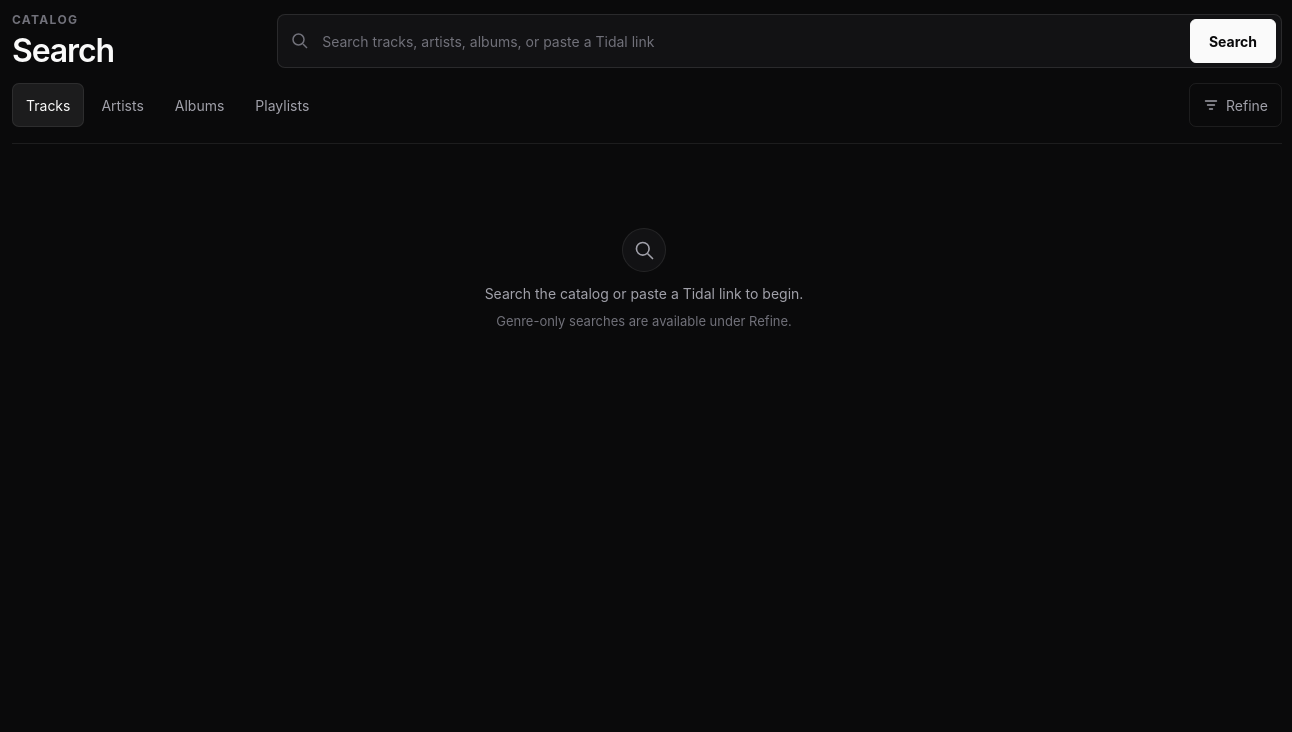
Test: SearchView › opens an album from a track result and renders its detail view
The image size is (1292, 732).
In the field labelled "Search tracks, artists, albums, or paste a Tidal link": {"x": 750, "y": 41} [318, 22, 1181, 60], type "Night Drive"
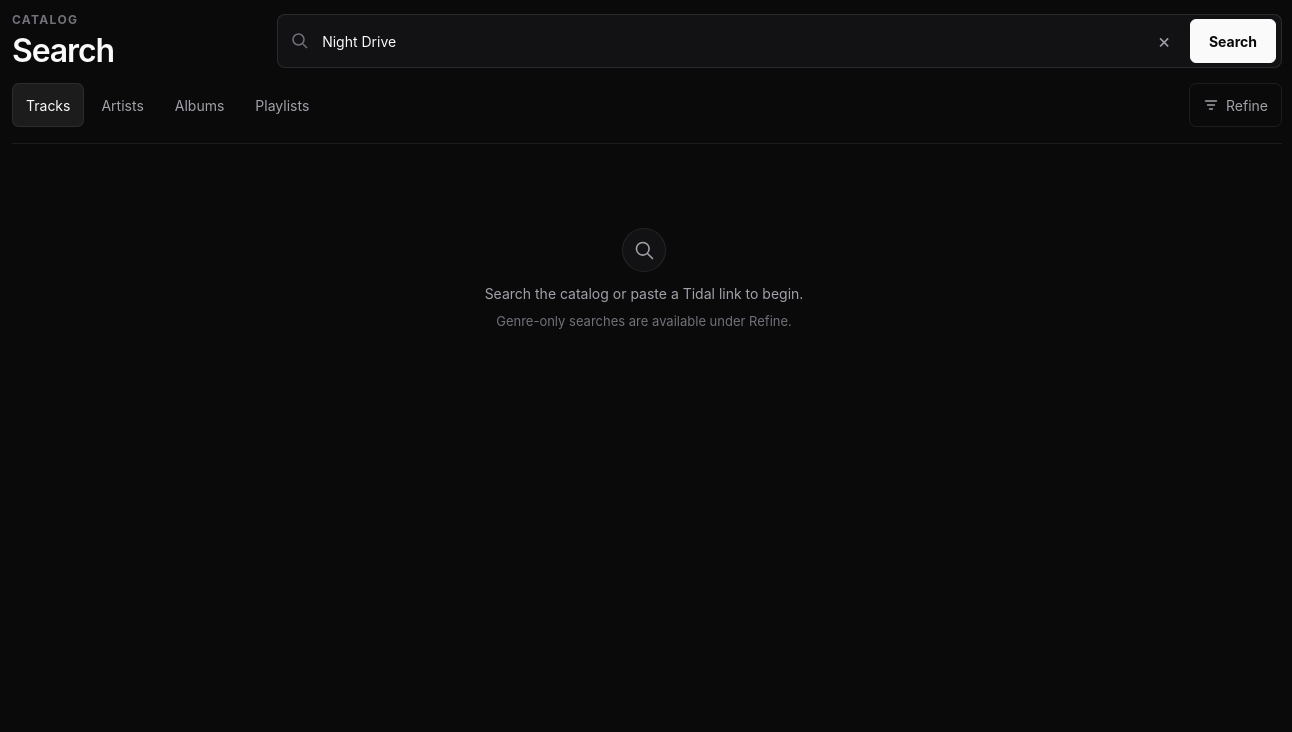
Click the button "Search": {"x": 1233, "y": 41} [1190, 19, 1276, 63]
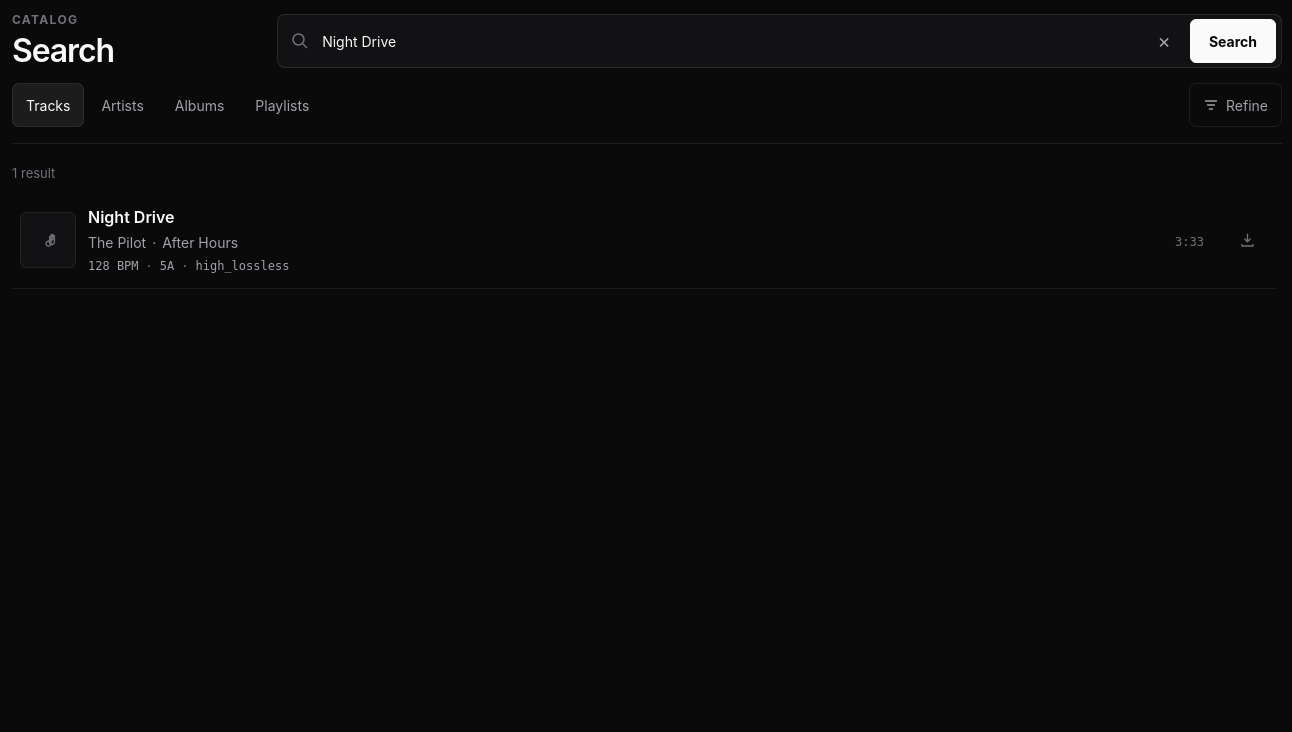
Expected: the button with aria-label "Open album After Hours" is shown
Click the button with aria-label "Open album After Hours": {"x": 200, "y": 242} [162, 232, 238, 253]
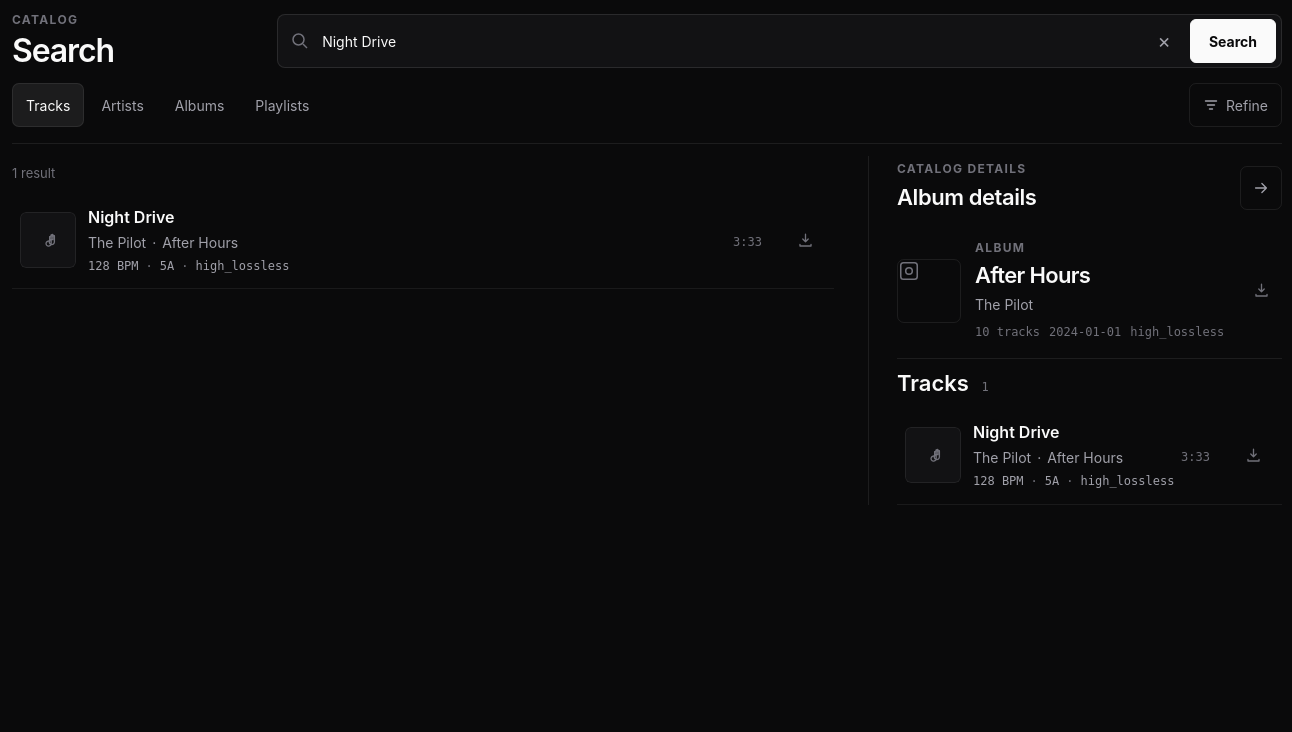
Expected: the heading "After Hours" is shown, [975, 262, 1090, 288]
